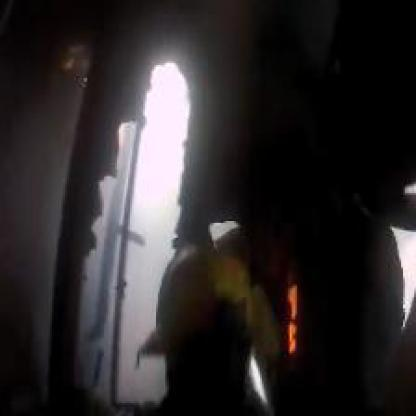other: (189, 224, 306, 371)
